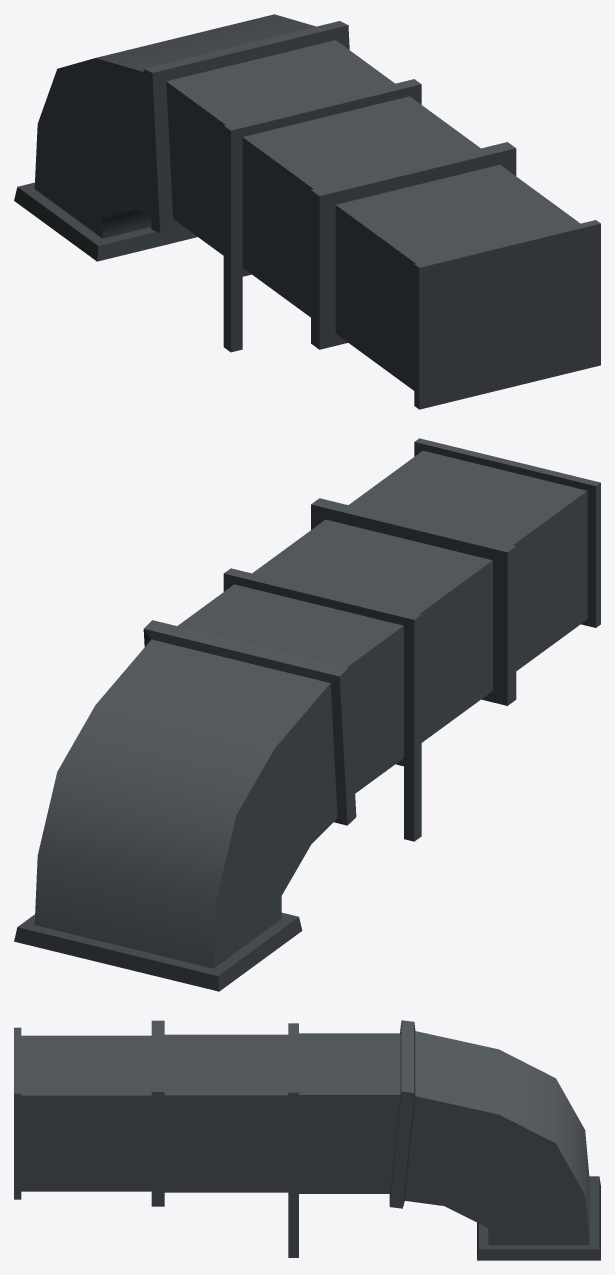
The model's file is AirConditioning_B2.fbx.
3 renders of one model, top to bottom at view 1: azimuth 30°, elevation 25°; view 2: azimuth 150°, elevation 25°; view 3: azimuth 270°, elevation 25°, orthographic. The views are drawn at different scales.
Visible parts, largest first — view 1: AirConditioning_B2; view 2: AirConditioning_B2; view 3: AirConditioning_B2.
Part boxes in pixels (x1=…): AirConditioning_B2: x1=14, y1=14, x2=600, y2=409; AirConditioning_B2: x1=14, y1=438, x2=600, y2=991; AirConditioning_B2: x1=14, y1=1020, x2=600, y2=1260.
Bounding box in the file's own units: 199 × 208 × 661.
